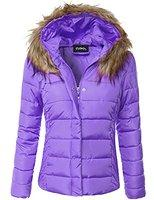C_jacket: (9, 1, 151, 199)
